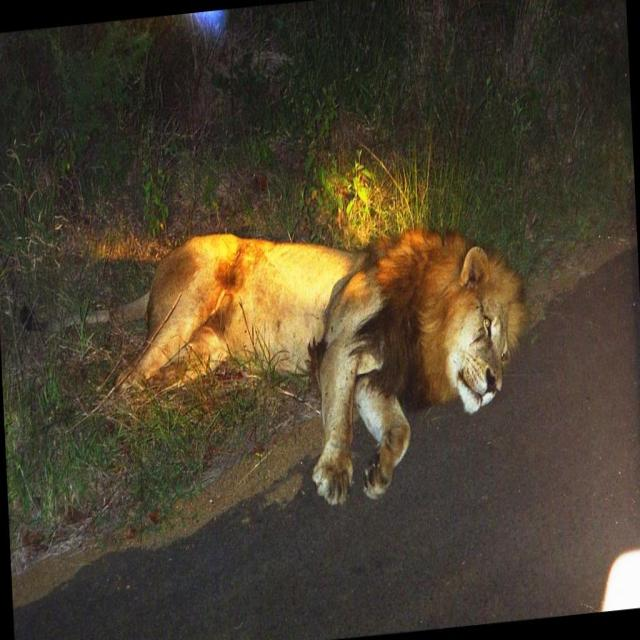Lion: (16, 201, 538, 538)
